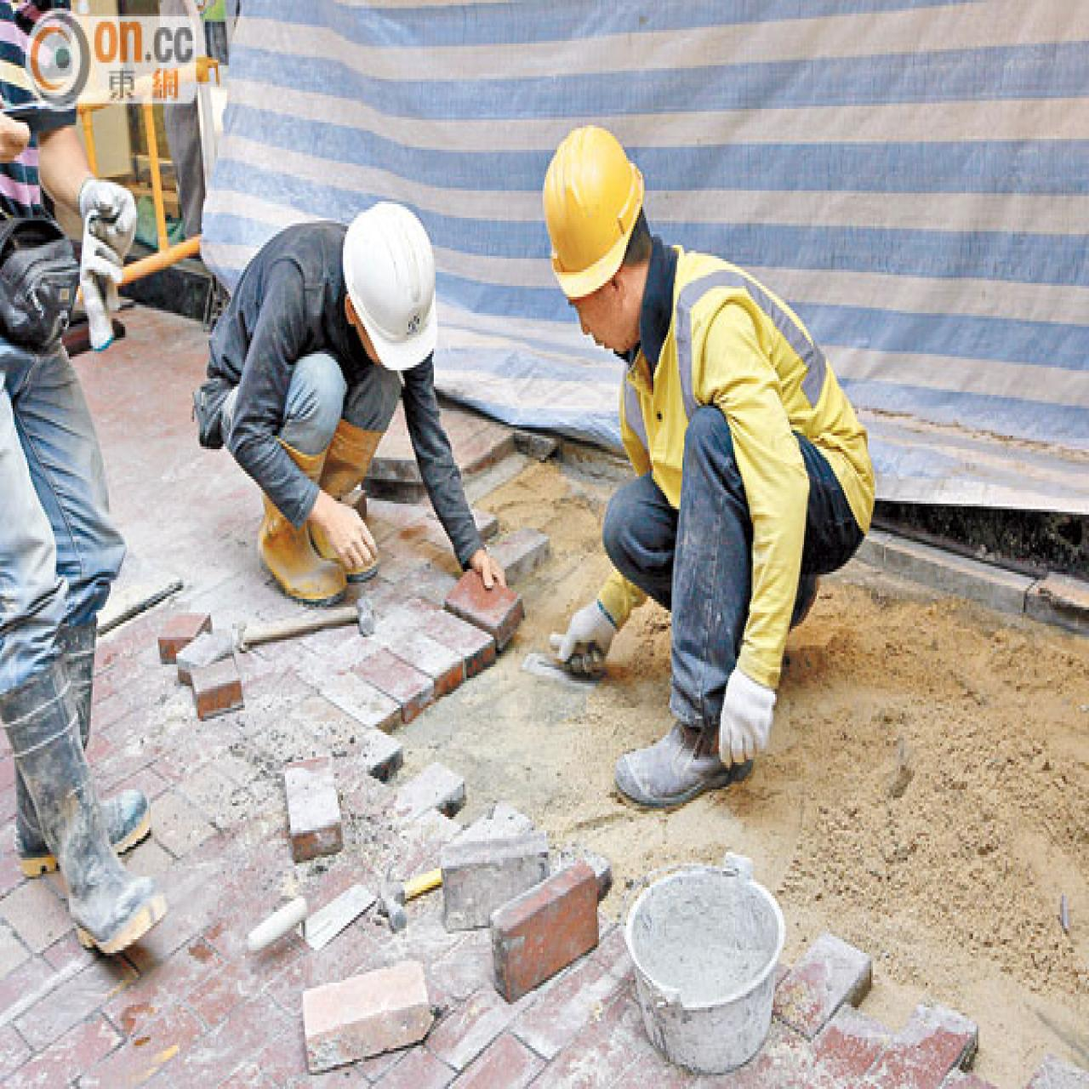NO_Safety_Vest: (617, 243, 881, 562), (207, 216, 402, 471), (0, 0, 71, 321)
Person: (520, 108, 910, 850), (2, 0, 170, 946), (189, 190, 502, 621)
